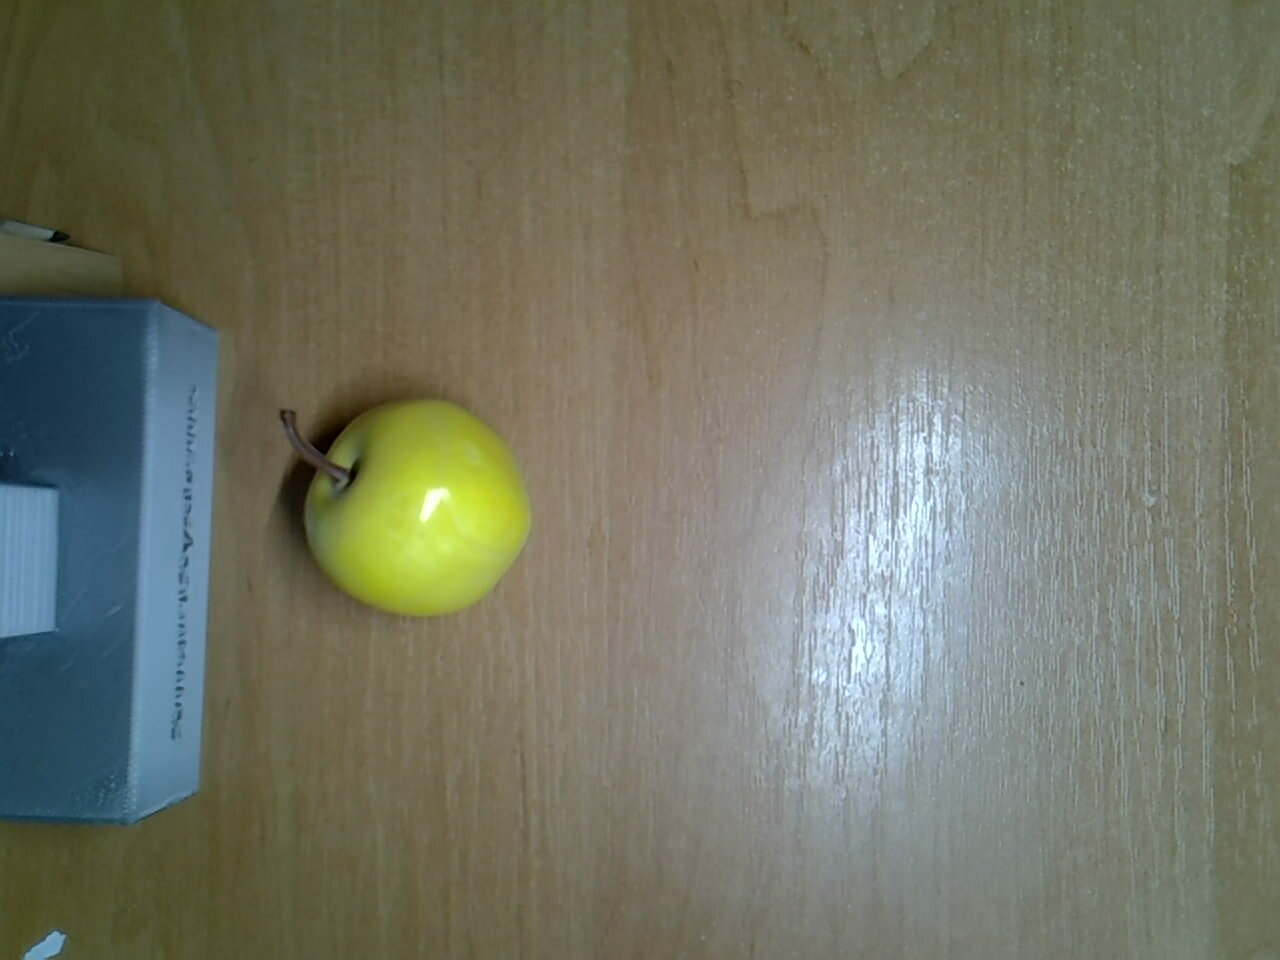apple: (259, 382, 543, 624)
